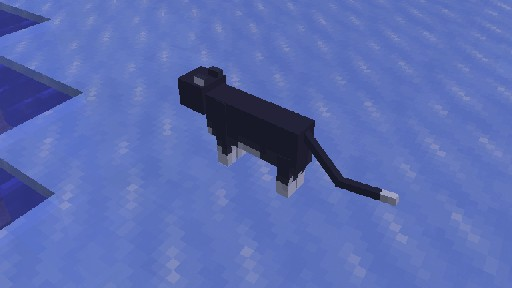cat: (177, 65, 399, 206)
